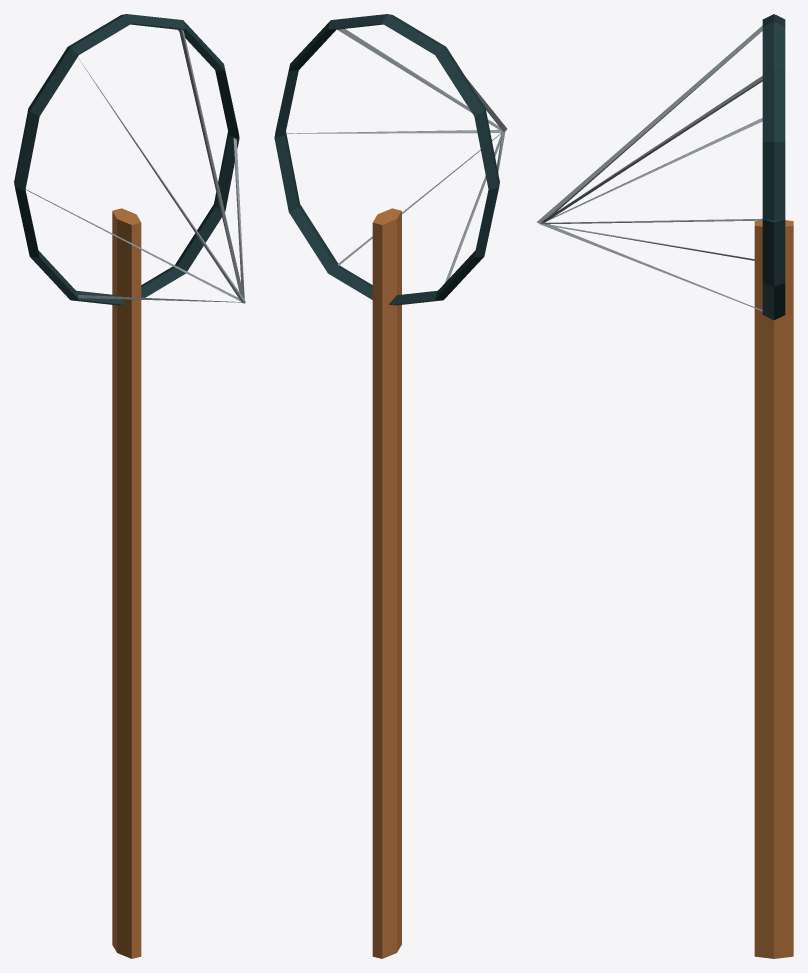
The model's file is keeper_net_pole.fbx.
3 renders of one model, left to right at view 1: azimuth 30°, elevation 25°; view 2: azimuth 150°, elevation 25°; view 3: azimuth 270°, elevation 25°, orthographic.
Visible parts, largest first — view 1: keeper_net_pole; view 2: keeper_net_pole; view 3: keeper_net_pole.
Part boxes in pixels (x1,y1,x2,y2): keeper_net_pole: [14, 14, 245, 958]; keeper_net_pole: [274, 14, 507, 958]; keeper_net_pole: [536, 14, 793, 958].
Size of the model in its own units: 0.6 by 2.4 by 0.6.
